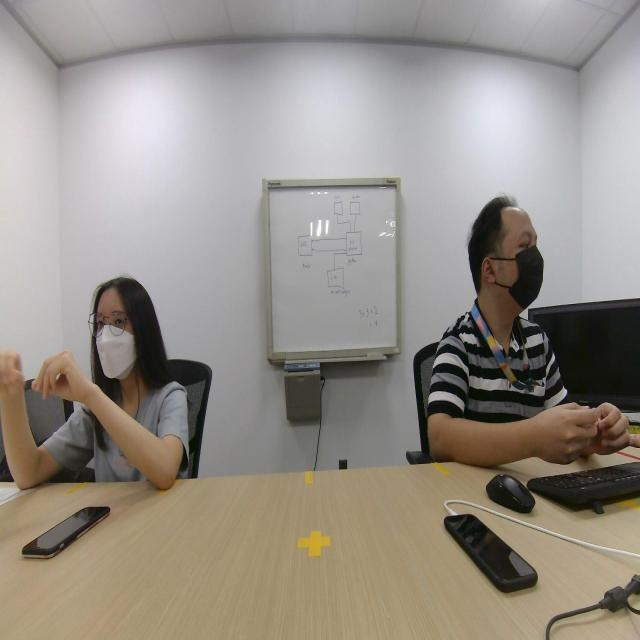obstacle: (17, 202, 209, 476), (415, 167, 583, 477)
